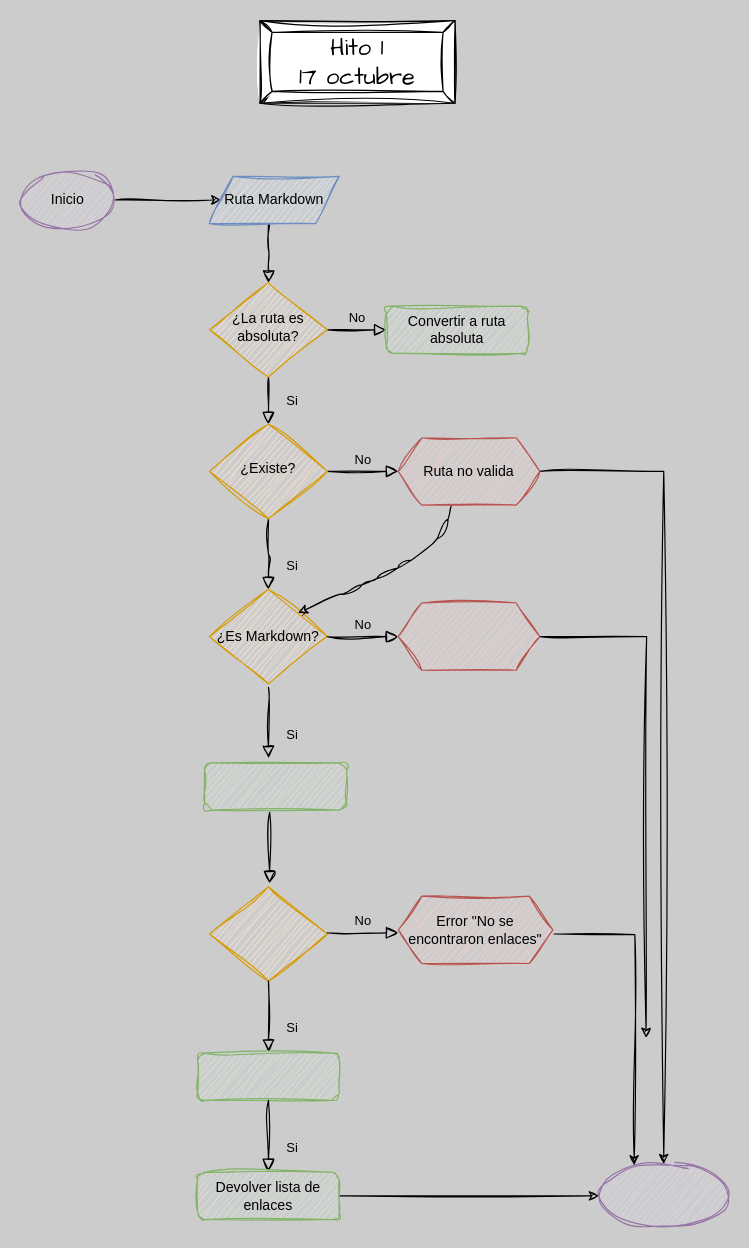
The diagram is 749 pixels wide and 1248 high, and some of its shapes have lost their labels. The box of each missing label's shape, as (x1, y1, x2, y2) in pixels:
Extraer URL (href) Texto (text): (196, 1052, 339, 1100)
Final: (598, 1163, 729, 1228)
Formato incorrecto: (397, 602, 540, 670)
Se lee el archivo: (204, 762, 346, 810)
¿Hay links?: (208, 886, 327, 981)
